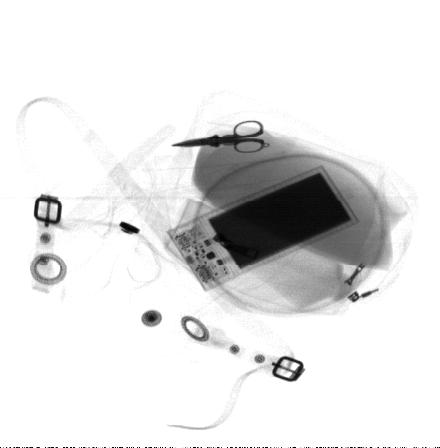Powerbank: (167, 163, 362, 294)
Scissors: (169, 118, 268, 156)
